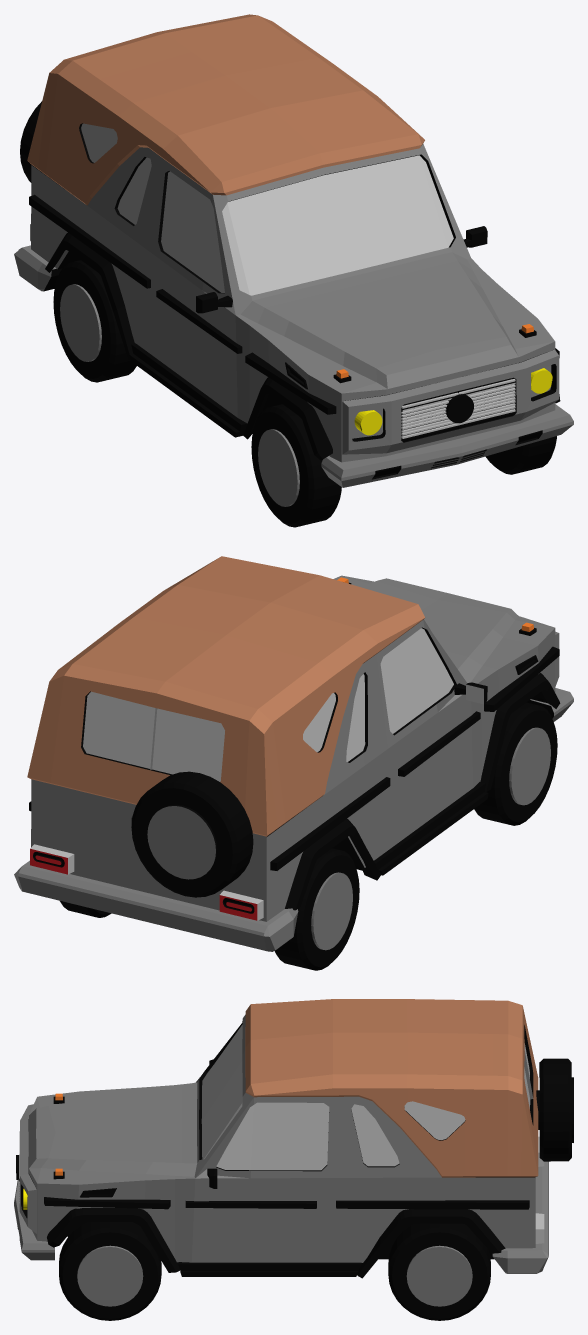
File: Авто №6.fbx
The picture shows the model from 3 angles, top to bottom: view 1: azimuth 30°, elevation 25°; view 2: azimuth 150°, elevation 25°; view 3: azimuth 270°, elevation 25°; orthographic projection. The views are drawn at different scales.
Visible parts, largest first — view 1: Cube, Cylinder.003, Cylinder.004, Cylinder, Cylinder.001; view 2: Cube, Cylinder.001, Cylinder.003, Cylinder.004; view 3: Cube, Cylinder, Cylinder.002, Cylinder.001.
Part boxes in pixels (x1=…): Cube: x1=14, y1=14, x2=573, y2=487; Cylinder.003: x1=251, y1=404, x2=341, y2=527; Cylinder.004: x1=53, y1=260, x2=136, y2=382; Cylinder: x1=485, y1=436, x2=556, y2=474; Cylinder.001: x1=20, y1=101, x2=41, y2=182; Cube: x1=14, y1=556, x2=573, y2=951; Cylinder.001: x1=131, y1=771, x2=253, y2=897; Cylinder.003: x1=474, y1=702, x2=557, y2=825; Cylinder.004: x1=274, y1=848, x2=359, y2=970; Cube: x1=14, y1=999, x2=548, y2=1278; Cylinder: x1=59, y1=1222, x2=161, y2=1320; Cylinder.002: x1=388, y1=1223, x2=490, y2=1320; Cylinder.001: x1=536, y1=1058, x2=573, y2=1161.
Bounding box in the file's own units: 134 × 128 × 272.
